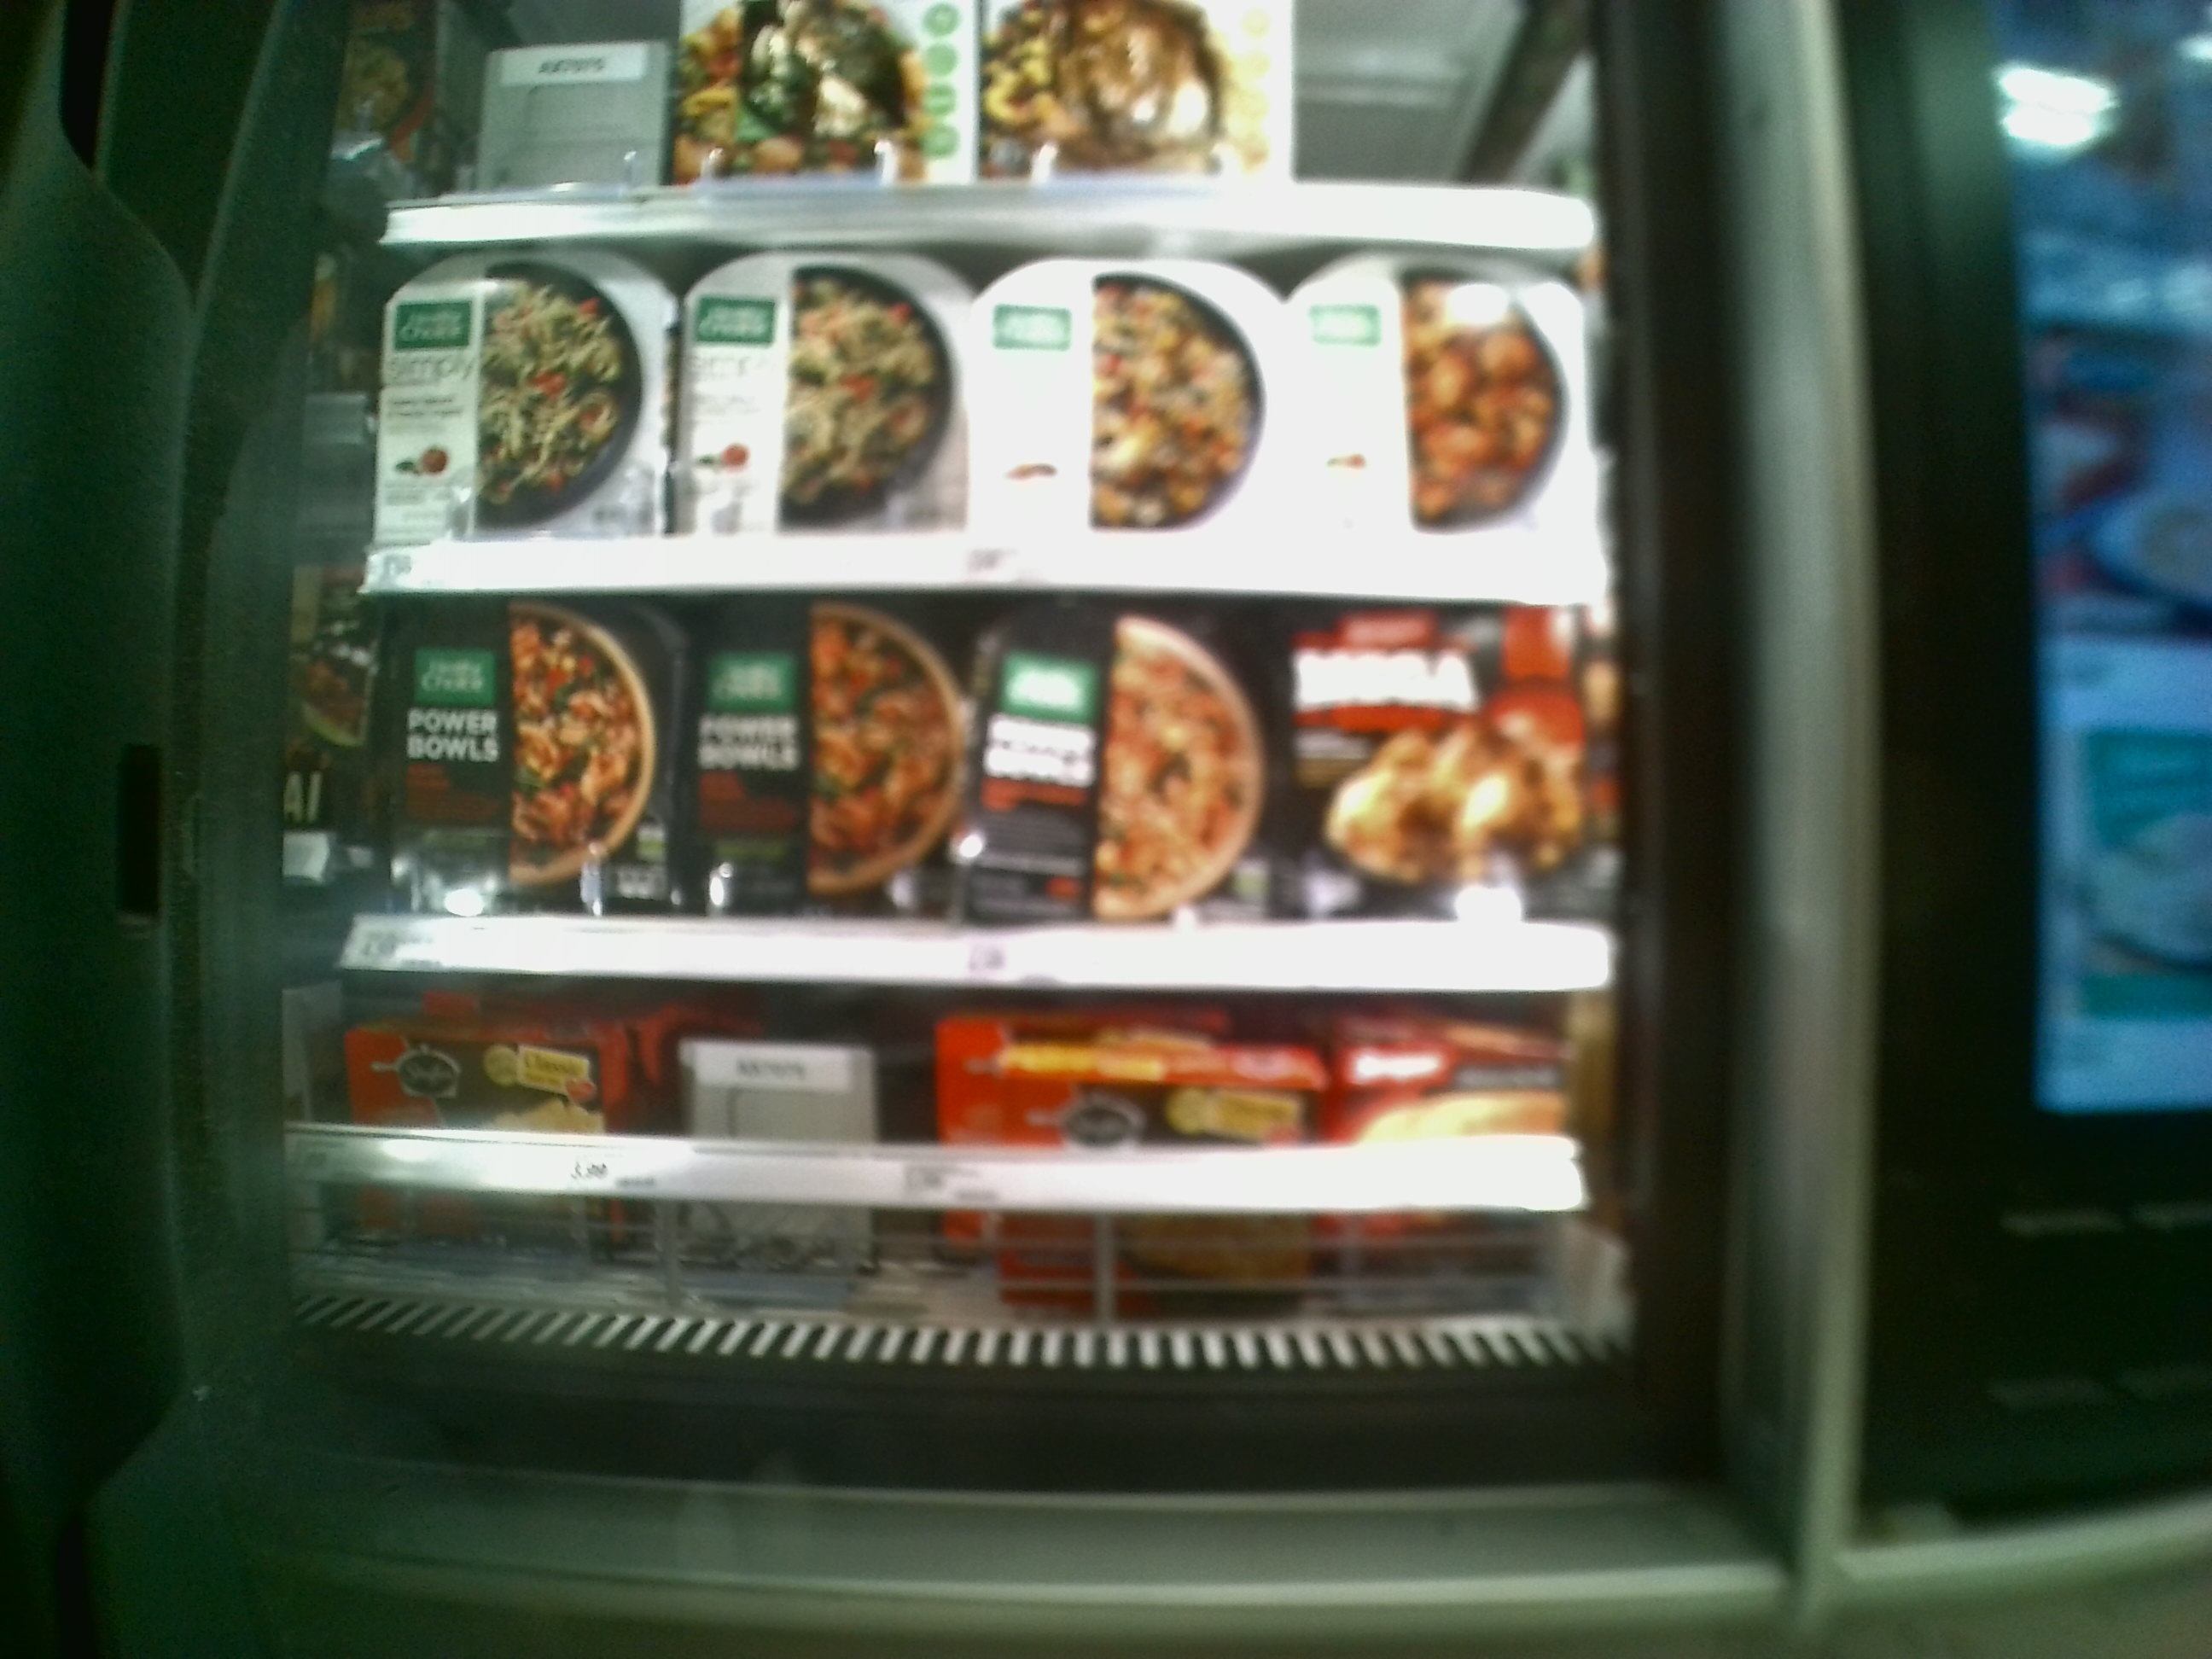shelf: (374, 592, 1622, 988), (378, 230, 1623, 599)
